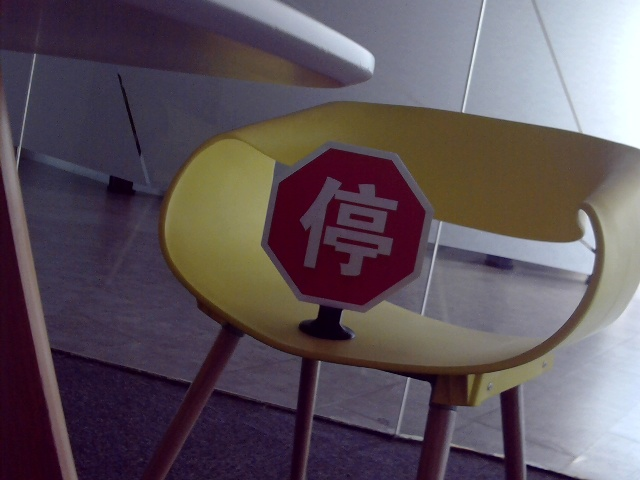stop: (297, 173, 397, 280)
